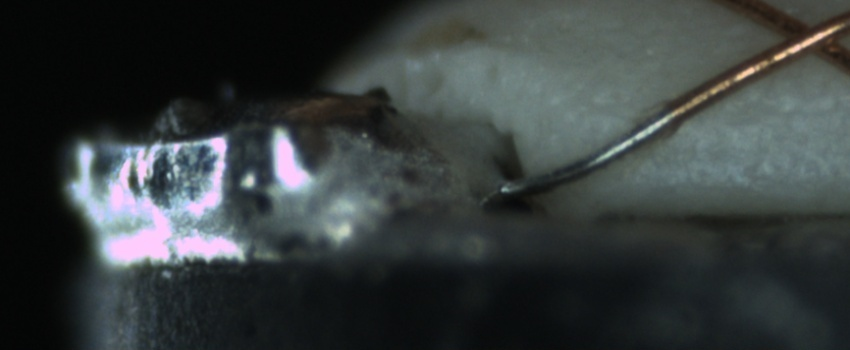CL: (759, 3, 850, 69)
DL: (692, 80, 849, 144)
TS: (502, 106, 677, 195)
